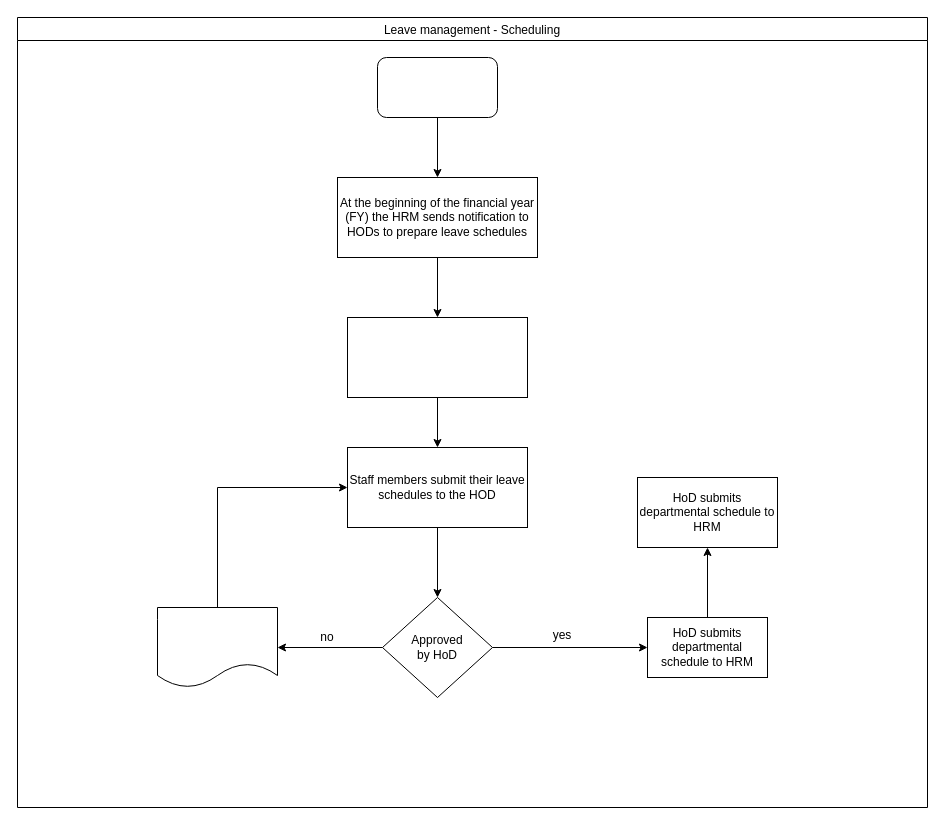
The diagram is 945 pixels wide and 825 high, and some of its shapes have lost their labels. The box of each missing label's shape, as (x1, y1, x2, y2) in pixels:
Comments: (156, 606, 278, 688)
HOD send notifications to staff to prepare leave schedules for the year: (346, 316, 528, 398)
Start: (376, 56, 498, 118)
